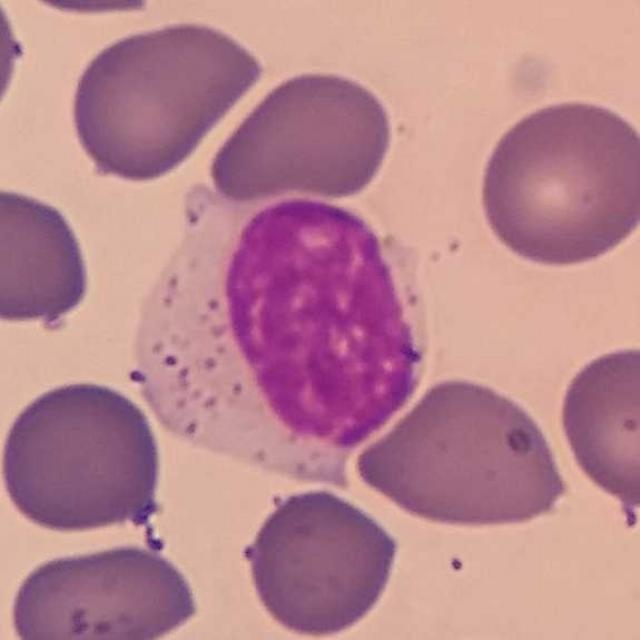Lymphocyte: (137, 188, 441, 469)
RBC: (348, 372, 574, 534), (64, 13, 267, 185), (473, 93, 639, 270), (202, 62, 398, 206), (0, 372, 168, 538), (236, 482, 404, 640), (4, 536, 207, 640), (0, 178, 97, 334), (554, 338, 640, 513), (0, 0, 32, 151), (39, 0, 183, 18)
